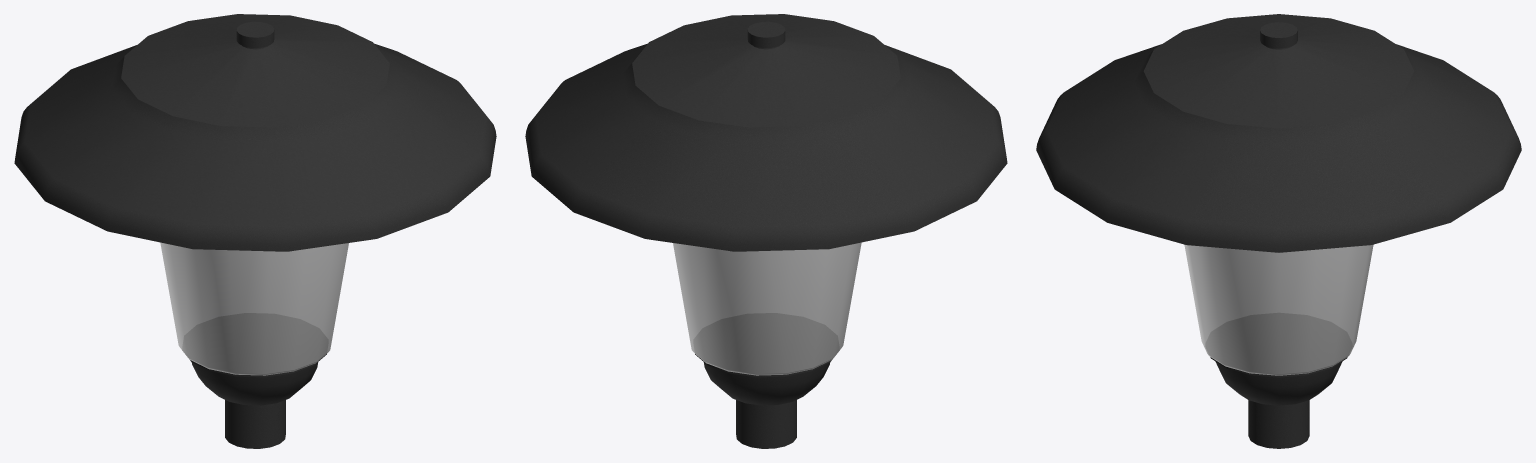
3 views of the same model, side by side, from view 1: azimuth 30°, elevation 25°; view 2: azimuth 150°, elevation 25°; view 3: azimuth 270°, elevation 25° (orthographic).
Visible parts, largest first — view 1: Vulkan 5450, Vulkan 5450 Glas; view 2: Vulkan 5450, Vulkan 5450 Glas; view 3: Vulkan 5450, Vulkan 5450 Glas.
Boxes of the visible parts, <box> form: Vulkan 5450: <box>14,14,496,448</box>; Vulkan 5450 Glas: <box>160,242,348,375</box>; Vulkan 5450: <box>525,14,1007,448</box>; Vulkan 5450 Glas: <box>673,242,861,375</box>; Vulkan 5450: <box>1036,14,1521,448</box>; Vulkan 5450 Glas: <box>1184,244,1373,375</box>.
Bounding box in the file's own units: 0.7805 × 0.7198 × 0.7805.
Materials: 3 (2 with a texture image).
